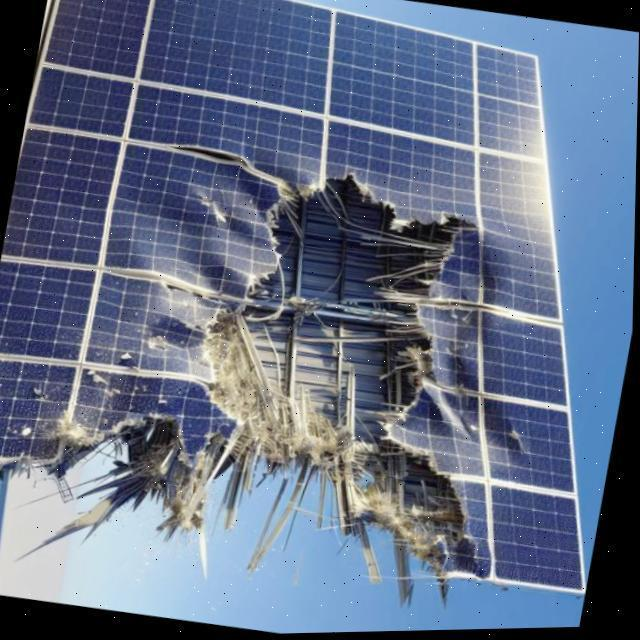Anomaly Solar Panel: (0, 0, 638, 604)
Structural Damage: (3, 110, 594, 586)
